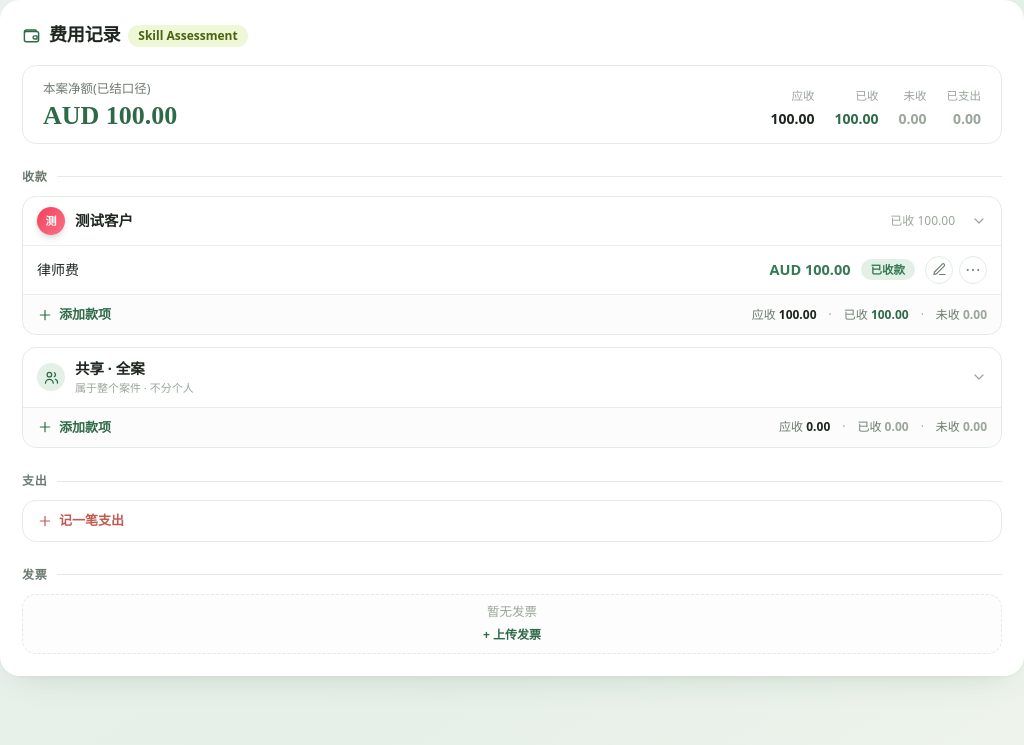
Test: CaseFeesCard — 收款的修改（算法不变，记录是输入） › 行内编辑钮（铅笔）也能开「修改款项」表单
The width and height of the screenshot is (1024, 745).
Expected: the text "本案净额(已结口径)" is shown, top-left (43, 80), bottom-right (150, 97)
Click the button named "编辑款项".
click(939, 270)  # box top-left (925, 256), bottom-right (953, 284)
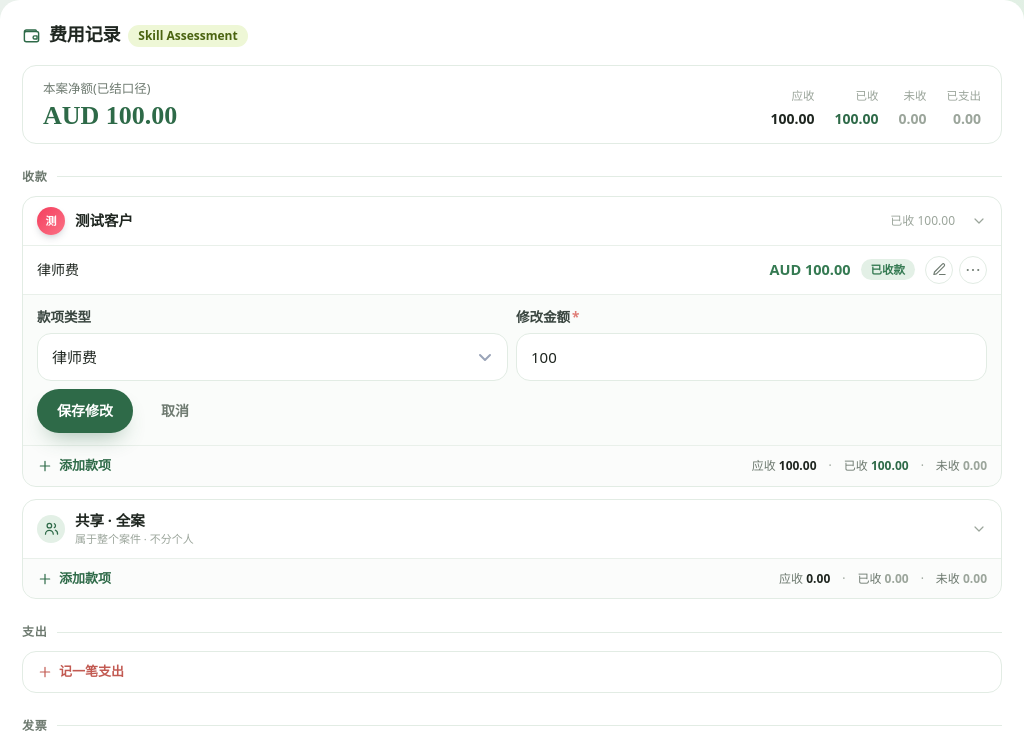
Now the number field labelled "修改金额*" is shown, box top-left (516, 333), bottom-right (987, 381)
